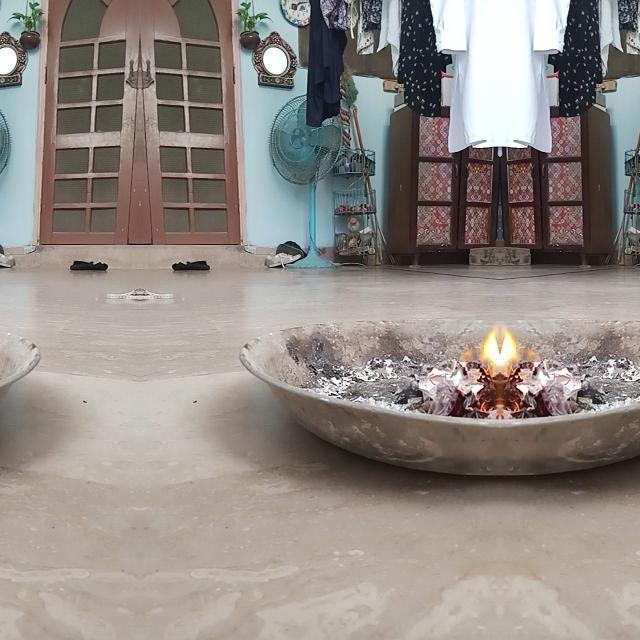smoke: (482, 326, 518, 368)
